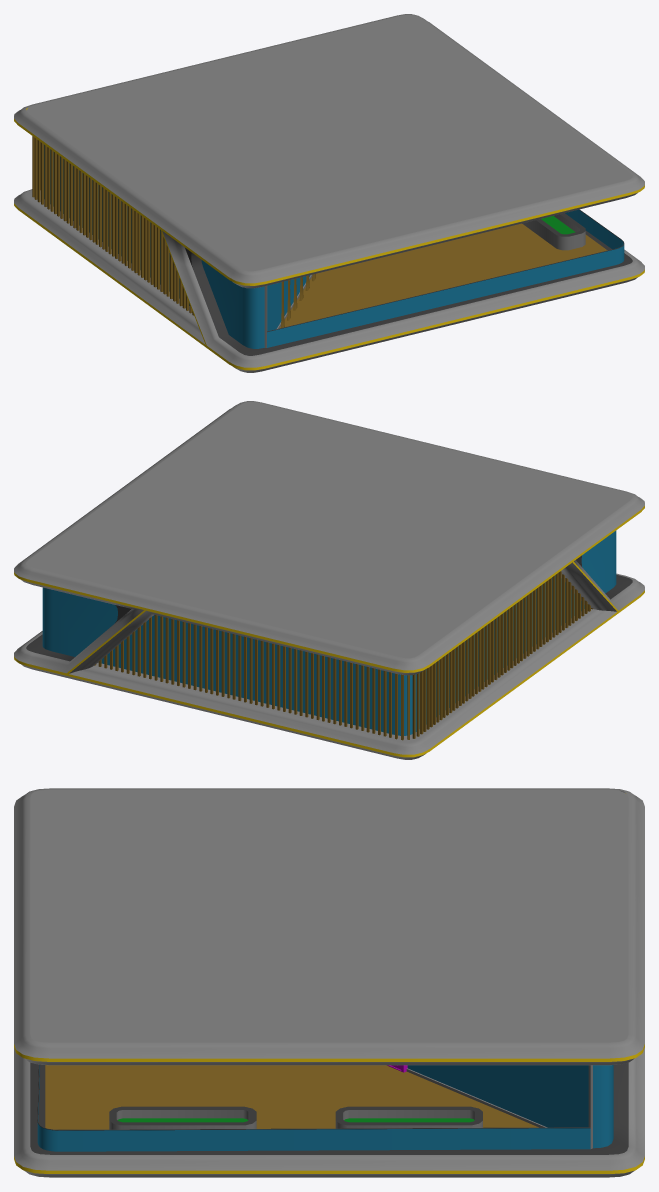
Rendered from SM_MK9_Building_Middle_001.fbx.
3 renders of one model, top to bottom at view 1: azimuth 30°, elevation 25°; view 2: azimuth 150°, elevation 25°; view 3: azimuth 270°, elevation 25°, orthographic. The views are drawn at different scales.
Visible parts, largest first — view 1: SM_MK9_Building_Middle_001; view 2: SM_MK9_Building_Middle_001; view 3: SM_MK9_Building_Middle_001.
Part boxes in pixels (<box>): SM_MK9_Building_Middle_001: <box>14,14,644,372</box>; SM_MK9_Building_Middle_001: <box>14,401,644,759</box>; SM_MK9_Building_Middle_001: <box>14,788,644,1177</box>.
Bounding box in the file's own units: 2141 × 500 × 2141.
